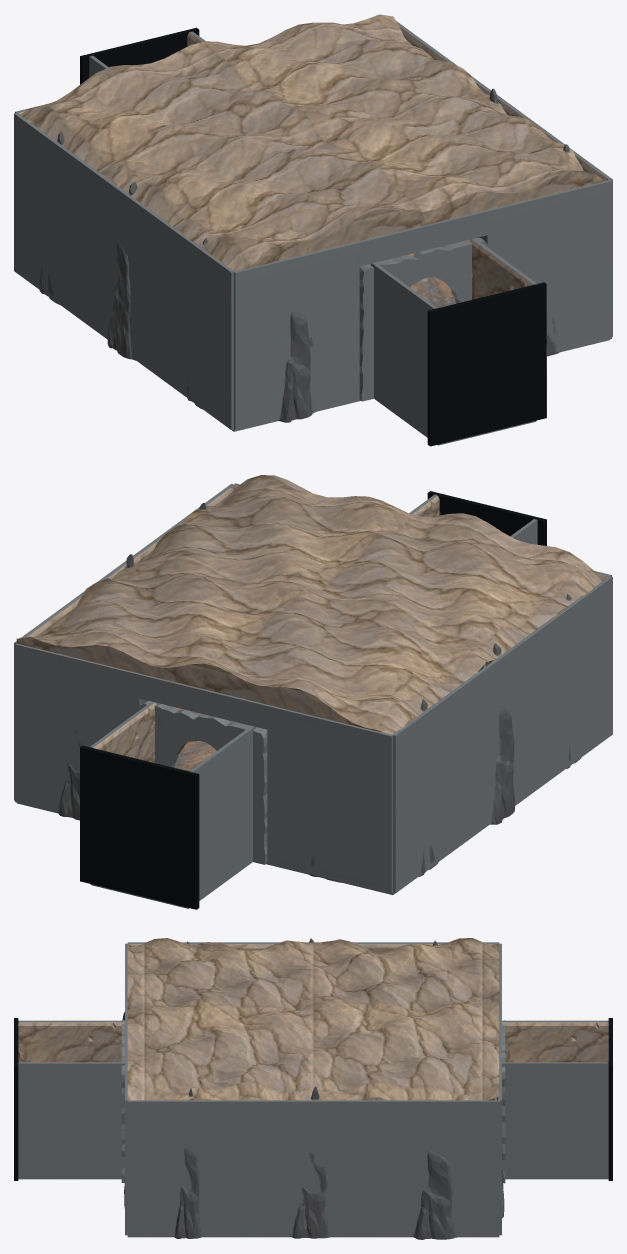
File: room.glb
3 views of the same model, one above another, from view 1: azimuth 30°, elevation 25°; view 2: azimuth 150°, elevation 25°; view 3: azimuth 270°, elevation 25° (orthographic). The views are drawn at different scales.
Parts seen in each view (by area): view 1: MENHIR-ROOM; view 2: MENHIR-ROOM; view 3: MENHIR-ROOM.
Part boxes in pixels (<box>): MENHIR-ROOM: <box>14,14,612,446</box>; MENHIR-ROOM: <box>14,475,612,909</box>; MENHIR-ROOM: <box>14,938,612,1239</box>.
Size of the model in its own units: 10.43 by 4.79 by 16.12.
1 material, 1 textured.
